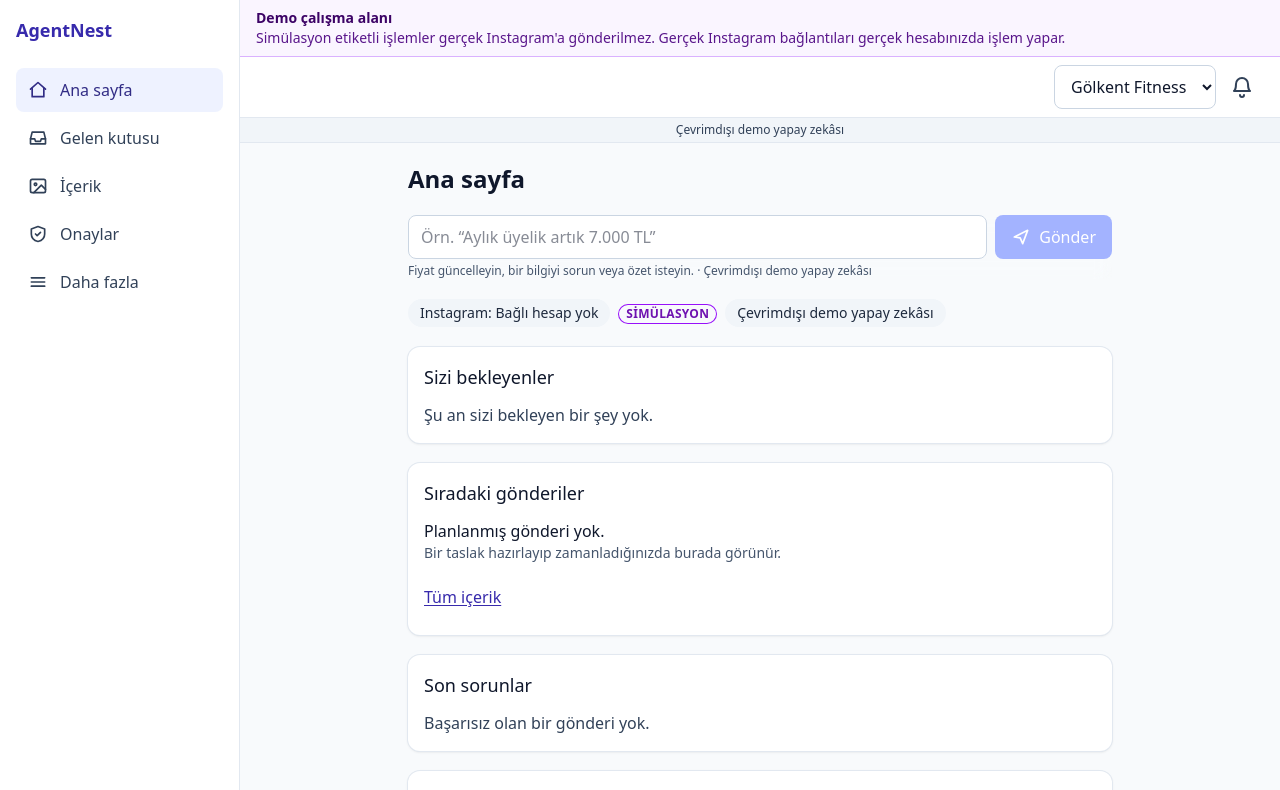
it: command bar › withdrawing cancels the command and never approves
Step 1. Type "Aylık üyelik artık 7.000 TL" into the field named "Komut" → coordinates (698, 237), box x1=408 y1=215 x2=987 y2=259
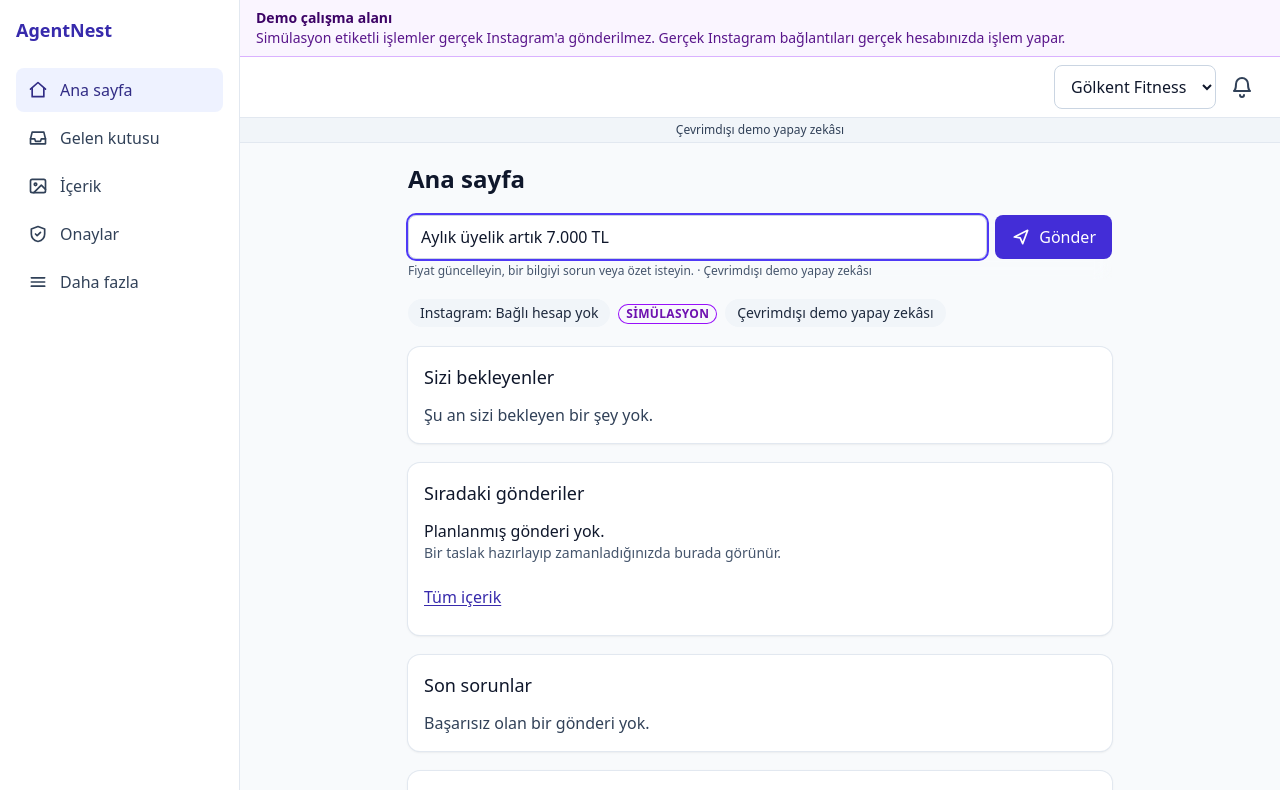
Step 2. Click the button "Gönder" → coordinates (1054, 237), box x1=995 y1=215 x2=1112 y2=259
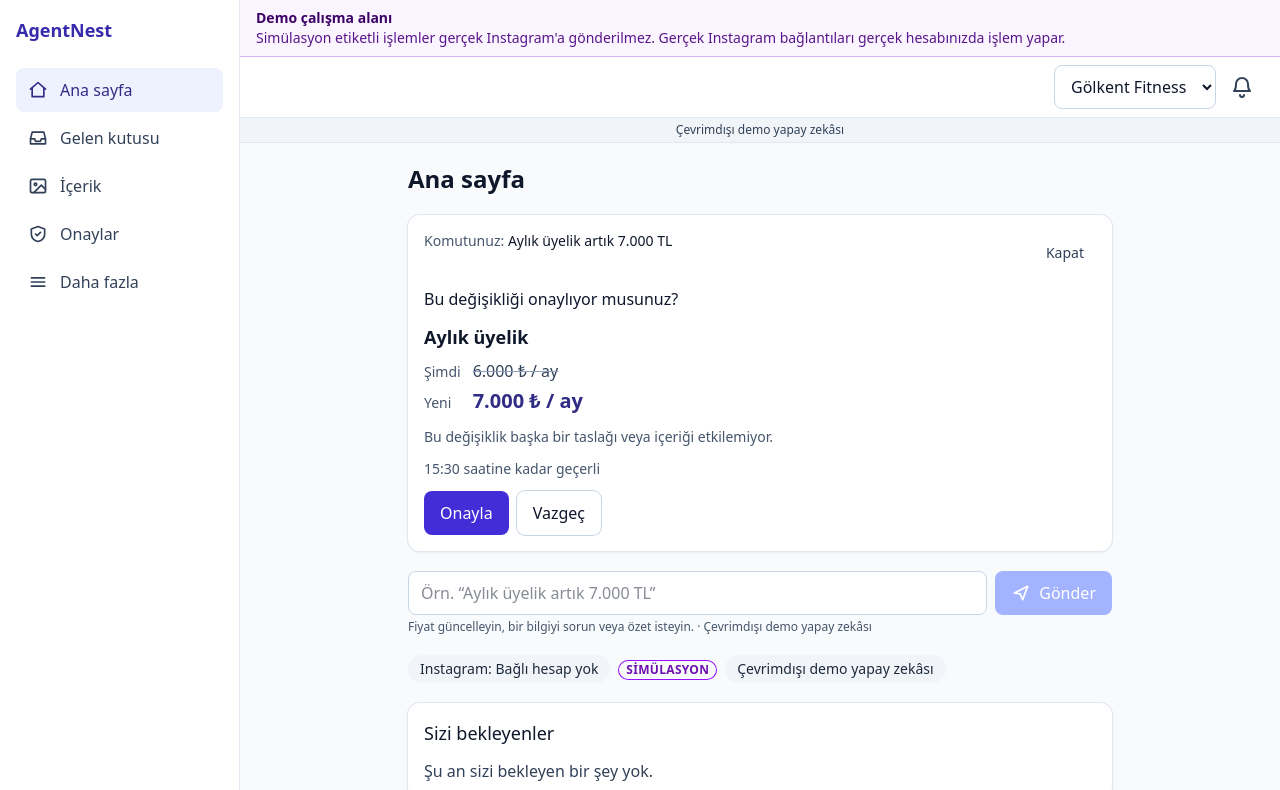
Step 3. Click the button "Vazgeç" → coordinates (559, 513), box x1=517 y1=491 x2=601 y2=535
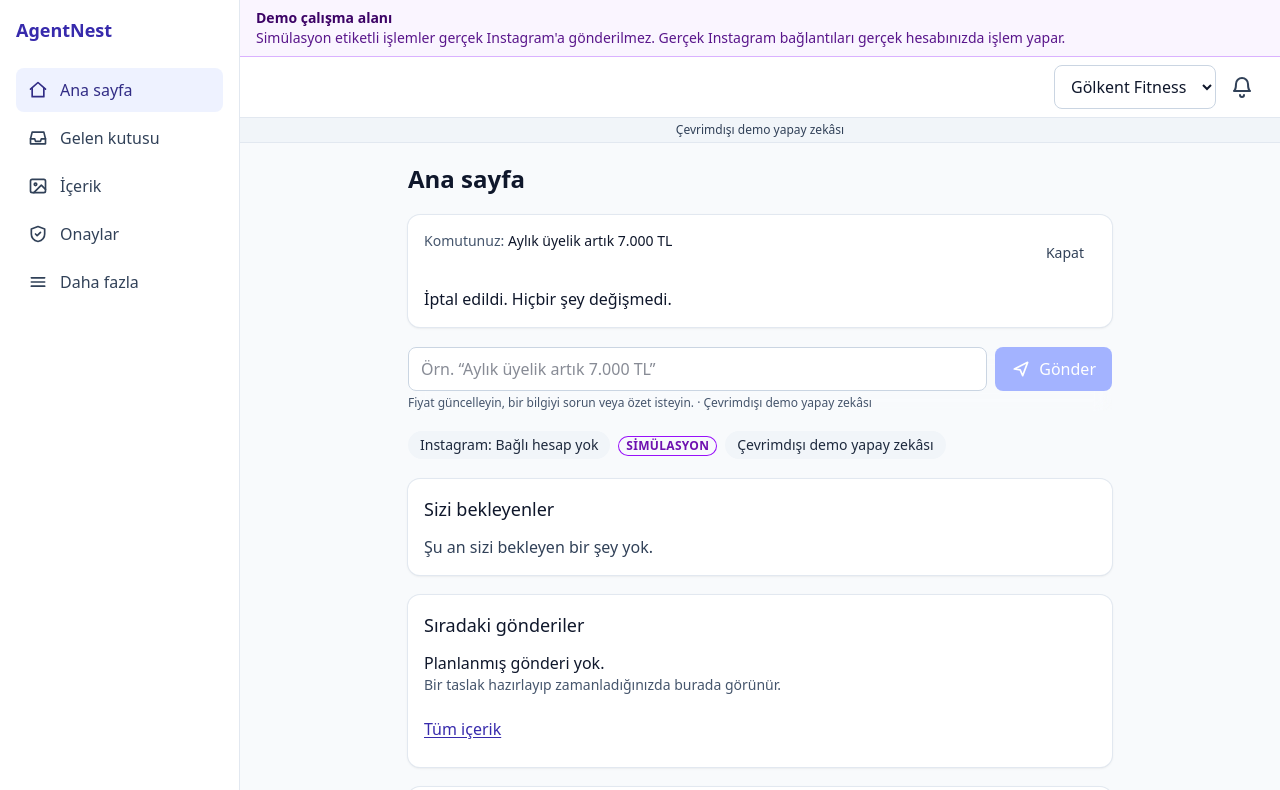
Expected: the text "İptal edildi. Hiçbir şey değişmedi." is shown, x1=424 y1=288 x2=672 y2=310
